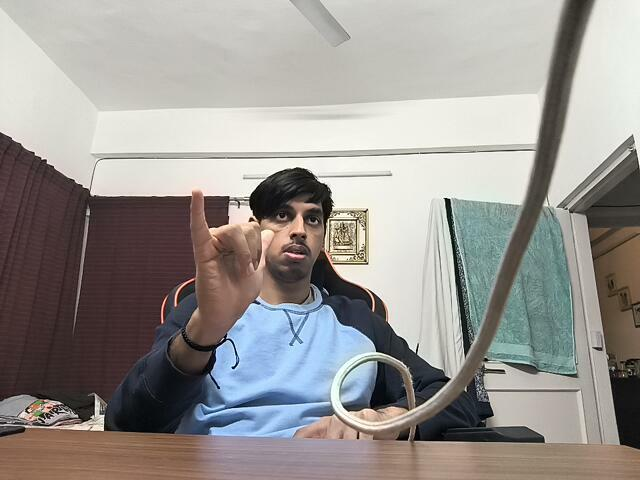FLIP: (179, 184, 288, 328)
